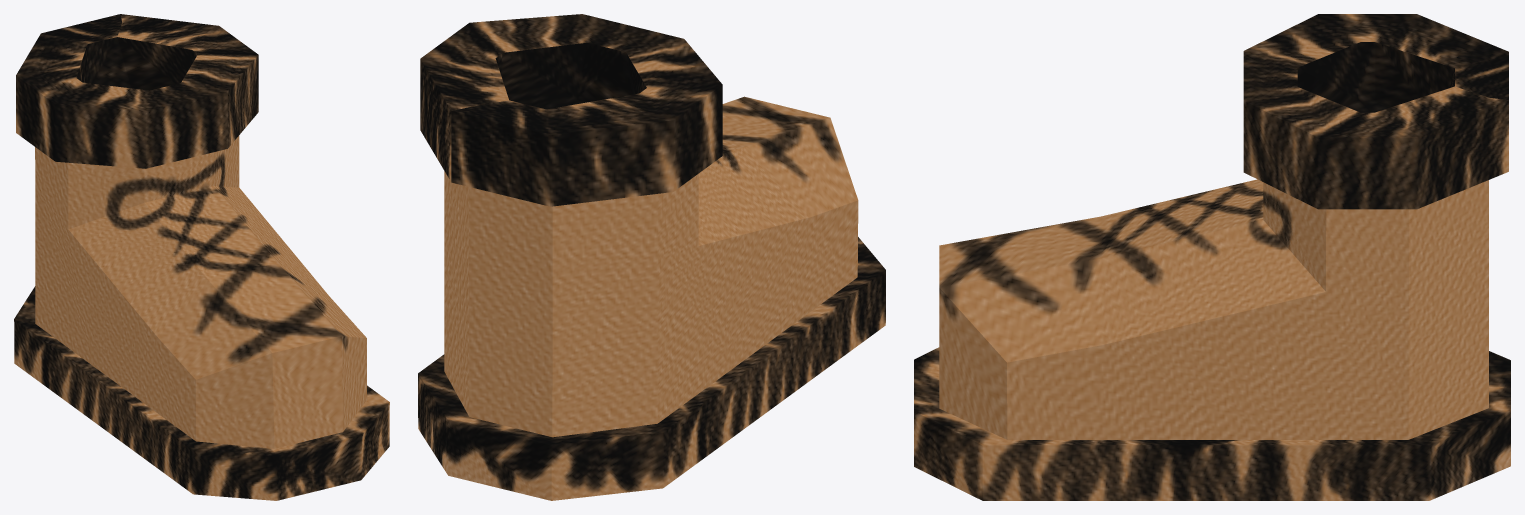
File: detail_shoe_1.glb
3 renders of one model, left to right at view 1: azimuth 30°, elevation 25°; view 2: azimuth 150°, elevation 25°; view 3: azimuth 270°, elevation 25°, orthographic. The views are drawn at different scales.
Parts seen in each view (by area): view 1: Shoe; view 2: Shoe; view 3: Shoe.
Boxes of the visible parts, x1,y1,x2,y2 form: Shoe: (14,14,389,500); Shoe: (418,14,885,500); Shoe: (914,14,1510,500).
Bounding box in the file's own units: 0.00771 × 0.0106 × 0.0157.
Materials: 1 (1 with a texture image).
